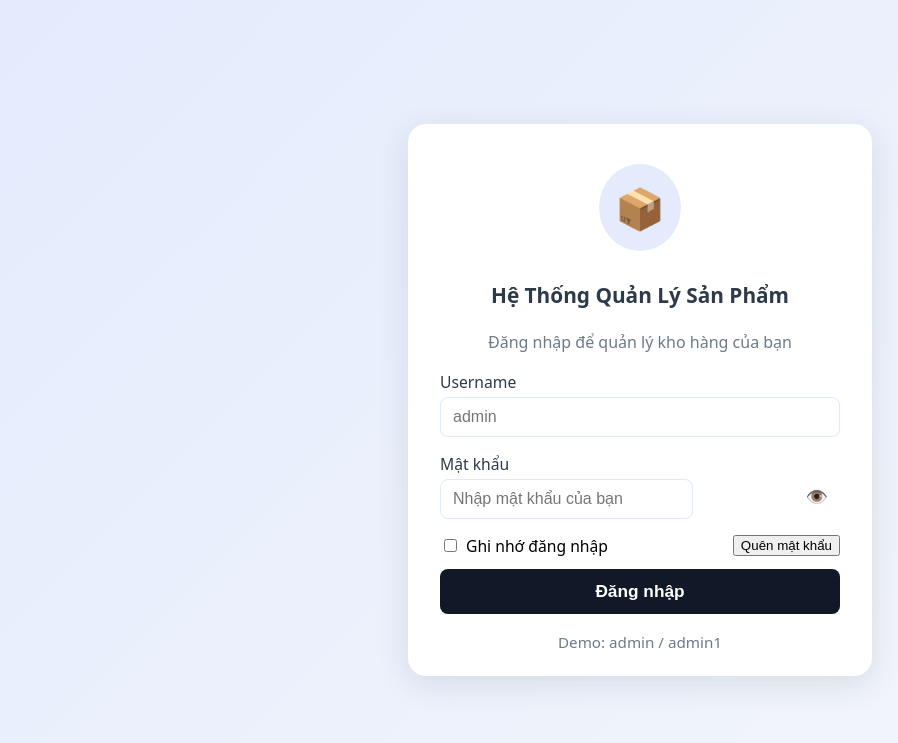
Test case: Login Form Validation › shows error on wrong credentials
Type "wronguser" into the field with placeholder "admin" at (640, 417), box [440,397,840,437]
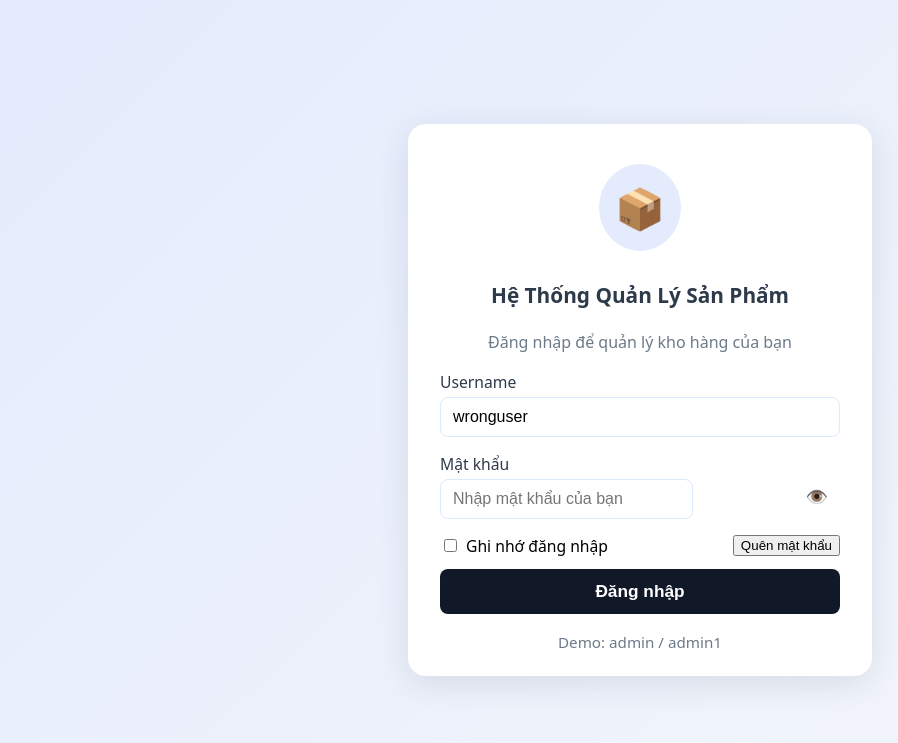
Type "WrongPass" into the password field with placeholder "Nhập mật khẩu của bạn" at (566, 499), box [440,479,693,519]
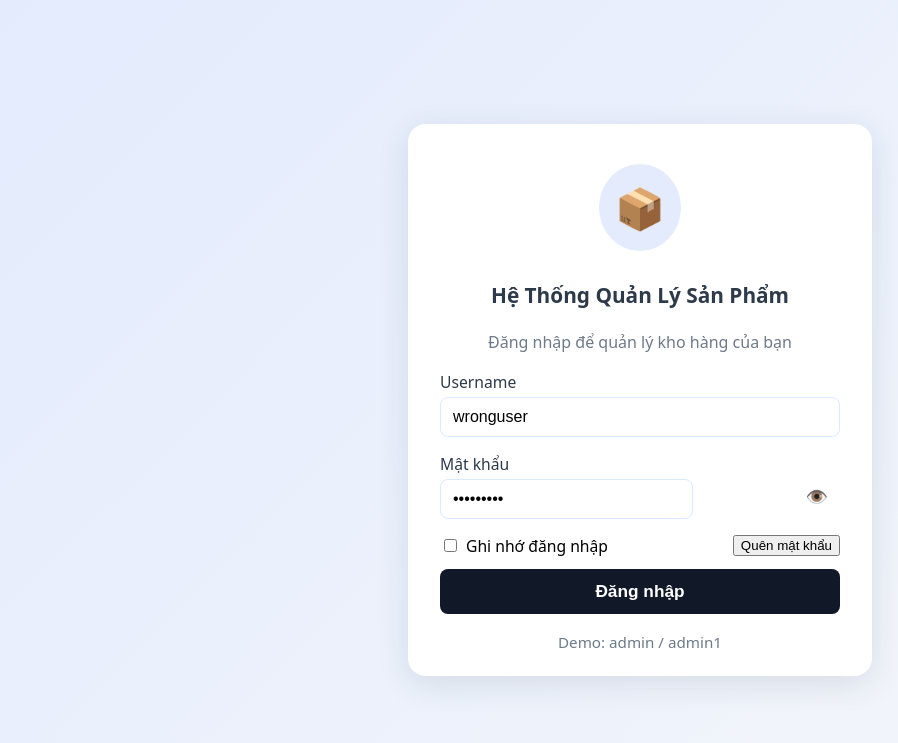
Click the button "Đăng nhập" at (640, 591), box [440,569,840,614]
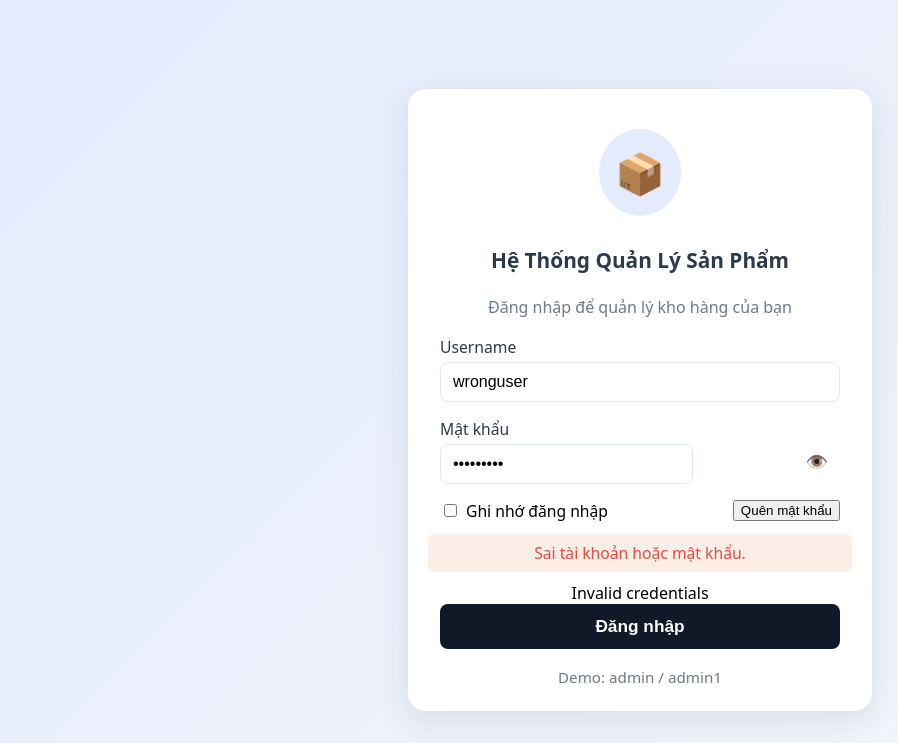
Expected: the text "Sai tài khoản hoặc mật khẩu." is shown, [428,534,852,572]
